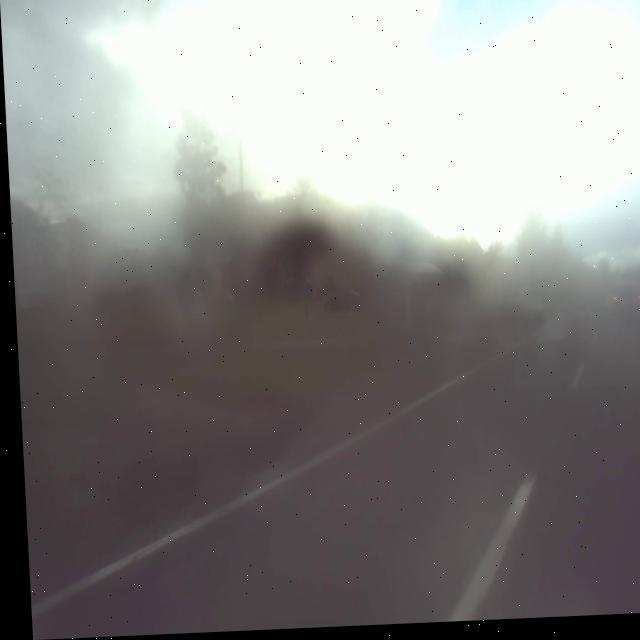car: (604, 281, 640, 329)
